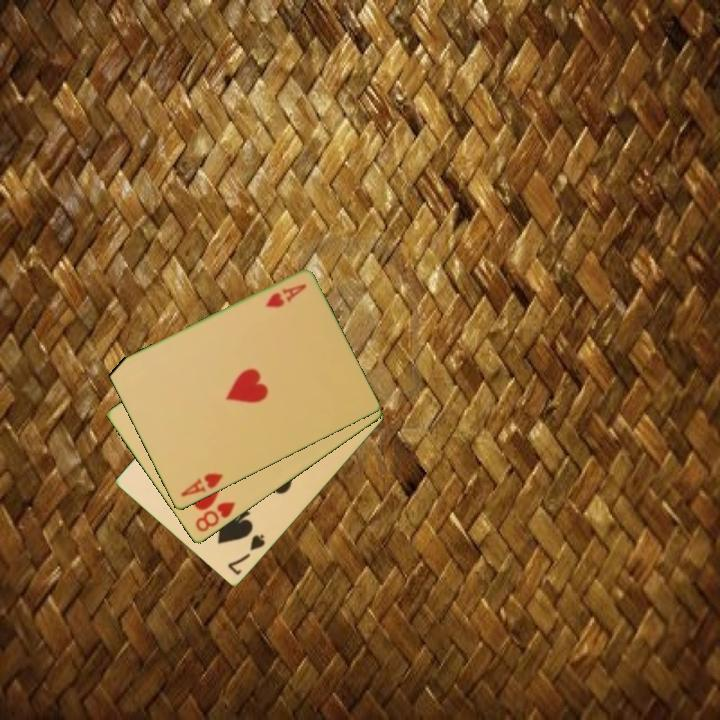7s: (224, 531, 268, 579)
8h: (192, 498, 239, 535)
Ah: (177, 470, 226, 500), (262, 281, 310, 311)
